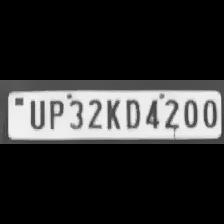0: (180, 96, 200, 128), (200, 96, 218, 128)
2: (84, 96, 104, 130), (160, 96, 180, 130)
3: (64, 96, 84, 130)
4: (142, 96, 162, 130)
D: (121, 96, 141, 128)
K: (102, 96, 122, 130)
P: (44, 97, 64, 130)
U: (26, 97, 46, 129)
